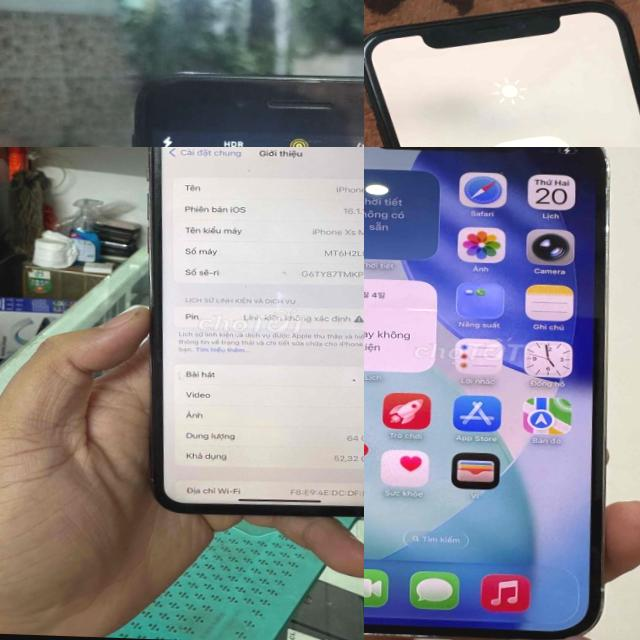gen_12_13: (364, 147, 630, 640)
gen_7_8: (102, 61, 364, 147)
gen_x_xs: (134, 147, 364, 527), (364, 0, 640, 147)
